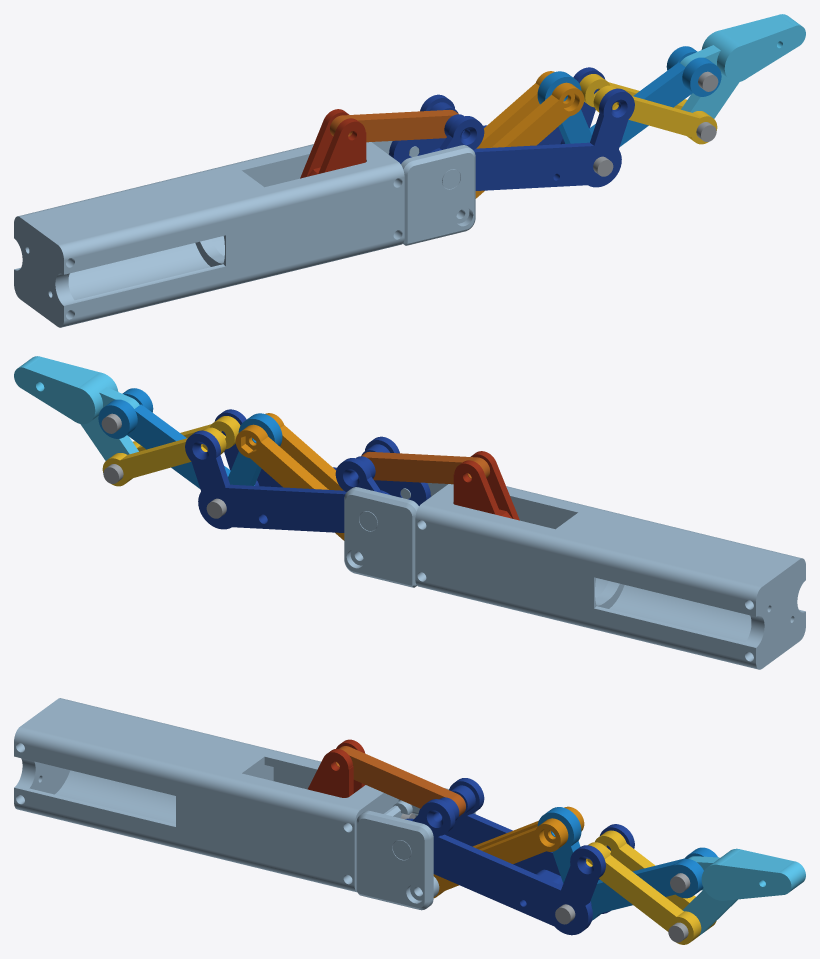
Rendered from finger-final-v3.glb.
3 renders of one model, top to bottom at view 1: azimuth 30°, elevation 25°; view 2: azimuth 150°, elevation 25°; view 3: azimuth 330°, elevation 25°, orthographic.
Visible parts, largest first — view 1: Lingbo's_final_motor_housing,_both_halves__reference,_from_F, Proximal_half_-Y, Finger_base__Lingbo's_Final_Finger_Base_step,_as_uploaded_, Distal_half_-Y, Middle_phalanx_half_-Y, Carriage__actuator_v3's,_assumed:_not_uploaded_, Link, Coupler_bar_Q_-Y, Coupler_bar_R_-Y, Proximal_half_+Y, Coupler_bar_Q_+Y, Distal_half_+Y (+2 smaller); view 2: Lingbo's_final_motor_housing,_both_halves__reference,_from_F, Proximal_half_+Y, Finger_base__Lingbo's_Final_Finger_Base_step,_as_uploaded_, Distal_half_+Y, Middle_phalanx_half_+Y, Carriage__actuator_v3's,_assumed:_not_uploaded_, Link, Coupler_bar_Q_+Y, Coupler_bar_R_+Y, Proximal_half_-Y, Coupler_bar_Q_-Y, Distal_half_-Y (+2 smaller); view 3: Lingbo's_final_motor_housing,_both_halves__reference,_from_F, Proximal_half_-Y, Finger_base__Lingbo's_Final_Finger_Base_step,_as_uploaded_, Distal_half_-Y, Middle_phalanx_half_-Y, Proximal_half_+Y, Coupler_bar_R_-Y, Link, Coupler_bar_Q_-Y, Carriage__actuator_v3's,_assumed:_not_uploaded_, Coupler_bar_R_+Y, Distal_half_+Y (+2 smaller).
Part boxes in pixels (box(x1,y1,x2,y2)): Lingbo's_final_motor_housing,_both_halves__reference,_from_F: box(14, 142, 404, 327); Proximal_half_-Y: box(430, 88, 634, 190); Finger_base__Lingbo's_Final_Finger_Base_step,_as_uploaded_: box(372, 141, 475, 245); Distal_half_-Y: box(684, 19, 805, 118); Middle_phalanx_half_-Y: box(541, 57, 721, 146); Carriage__actuator_v3's,_assumed:_not_uploaded_: box(300, 109, 366, 178); Link: box(330, 110, 458, 142); Coupler_bar_Q_-Y: box(475, 82, 584, 198); Coupler_bar_R_-Y: box(593, 85, 717, 144); Proximal_half_+Y: box(389, 67, 605, 163); Coupler_bar_Q_+Y: box(476, 71, 554, 148); Distal_half_+Y: box(680, 14, 793, 110); Lingbo's_final_motor_housing,_both_halves__reference,_from_F: box(415, 484, 805, 669); Proximal_half_+Y: box(185, 430, 389, 532); Finger_base__Lingbo's_Final_Finger_Base_step,_as_uploaded_: box(344, 483, 447, 587); Distal_half_+Y: box(14, 361, 135, 460); Middle_phalanx_half_+Y: box(98, 399, 278, 488); Carriage__actuator_v3's,_assumed:_not_uploaded_: box(453, 451, 519, 520); Link: box(361, 452, 489, 484); Coupler_bar_Q_+Y: box(235, 424, 344, 540); Coupler_bar_R_+Y: box(102, 427, 226, 486); Proximal_half_-Y: box(214, 409, 430, 505); Coupler_bar_Q_-Y: box(265, 413, 343, 490); Distal_half_-Y: box(26, 356, 139, 452); Lingbo's_final_motor_housing,_both_halves__reference,_from_F: box(14, 698, 398, 892); Proximal_half_-Y: box(405, 797, 605, 935); Finger_base__Lingbo's_Final_Finger_Base_step,_as_uploaded_: box(356, 788, 475, 910); Distal_half_-Y: box(682, 856, 798, 936); Middle_phalanx_half_-Y: box(537, 809, 703, 920); Proximal_half_+Y: box(418, 778, 634, 913); Coupler_bar_R_-Y: box(586, 842, 701, 944); Link: box(335, 746, 465, 816); Coupler_bar_Q_-Y: box(433, 818, 568, 898); Carriage__actuator_v3's,_assumed:_not_uploaded_: box(307, 739, 365, 797); Coupler_bar_R_+Y: box(595, 830, 716, 929); Distal_half_+Y: box(688, 848, 805, 932).
Size of the model in its own units: 0.291 by 0.045 by 0.0332.
